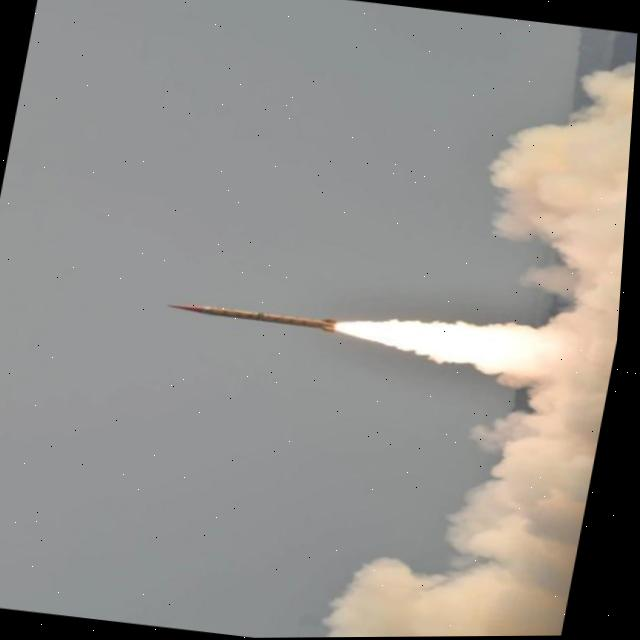missile: (169, 292, 345, 340)
